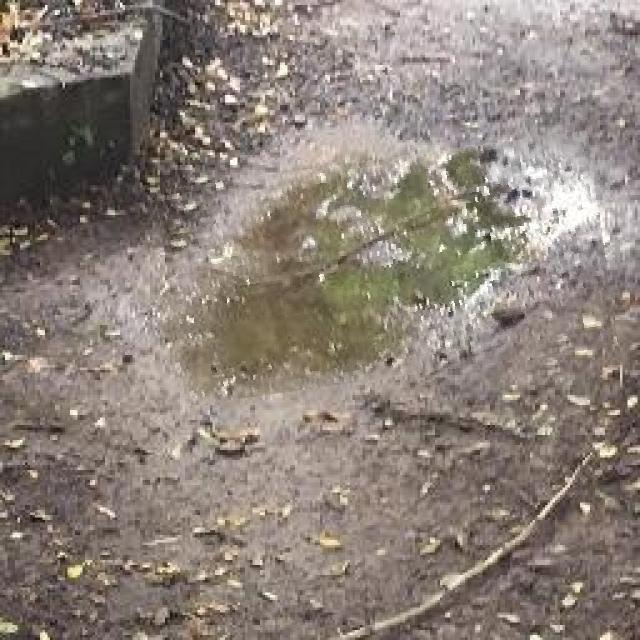puddle: (164, 146, 613, 392)
